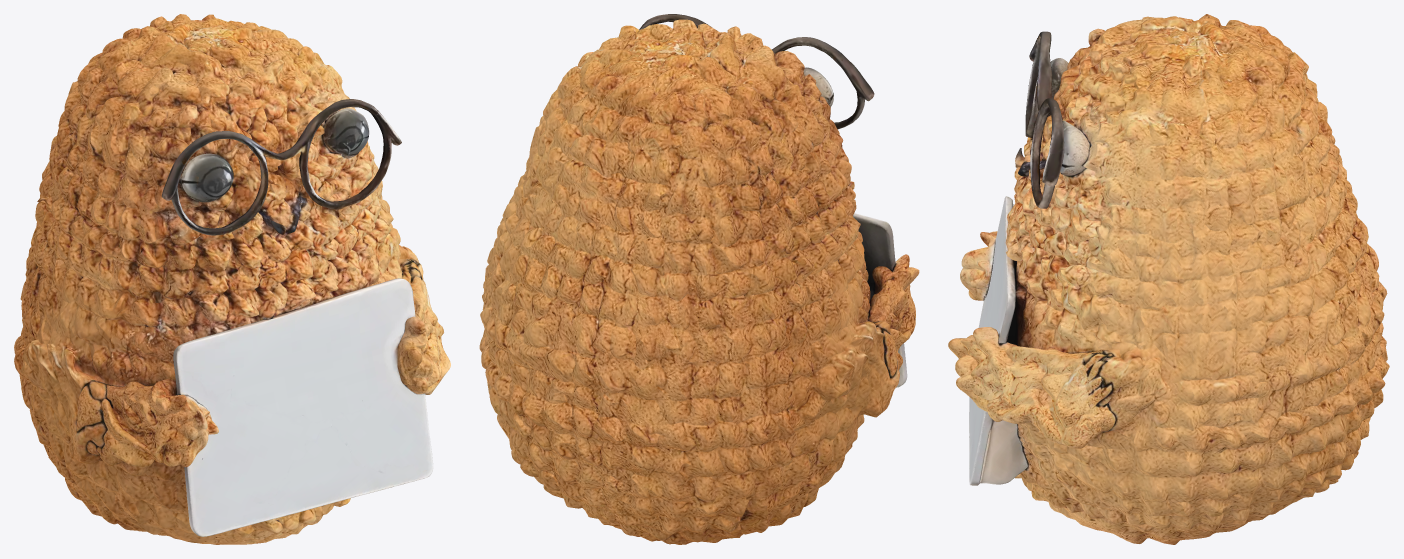
Rendered from spud-parts.glb.
3 renders of one model, left to right at view 1: azimuth 30°, elevation 25°; view 2: azimuth 150°, elevation 25°; view 3: azimuth 270°, elevation 25°, orthographic.
Parts seen in each view (by area): view 1: body, card, handL, handR, eyeL, eyeR; view 2: body, handL, card; view 3: body, handR, card, handL, eyeR.
Boxes of the visible parts, x1,y1,x2,y2 form: body: [14, 14, 421, 544]; card: [173, 278, 433, 536]; handL: [76, 378, 218, 467]; handR: [397, 259, 450, 394]; eyeL: [181, 153, 233, 202]; eyeR: [322, 108, 369, 156]; body: [479, 14, 899, 544]; handL: [868, 254, 919, 377]; card: [853, 213, 907, 387]; body: [1005, 14, 1389, 544]; handR: [948, 327, 1116, 448]; card: [969, 196, 1027, 485]; handL: [960, 231, 1015, 300]; eyeR: [1060, 120, 1090, 176].
Bounding box in the file's own units: 1.47 × 1.9 × 1.55.
Materials: 6 (6 with a texture image).
